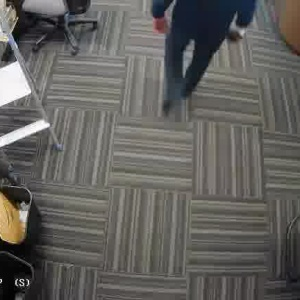person: (161, 0, 242, 107)
